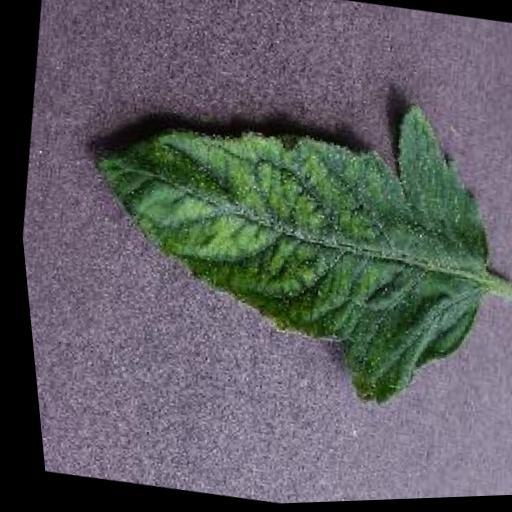Mosaic Virus: (44, 38, 512, 434)
